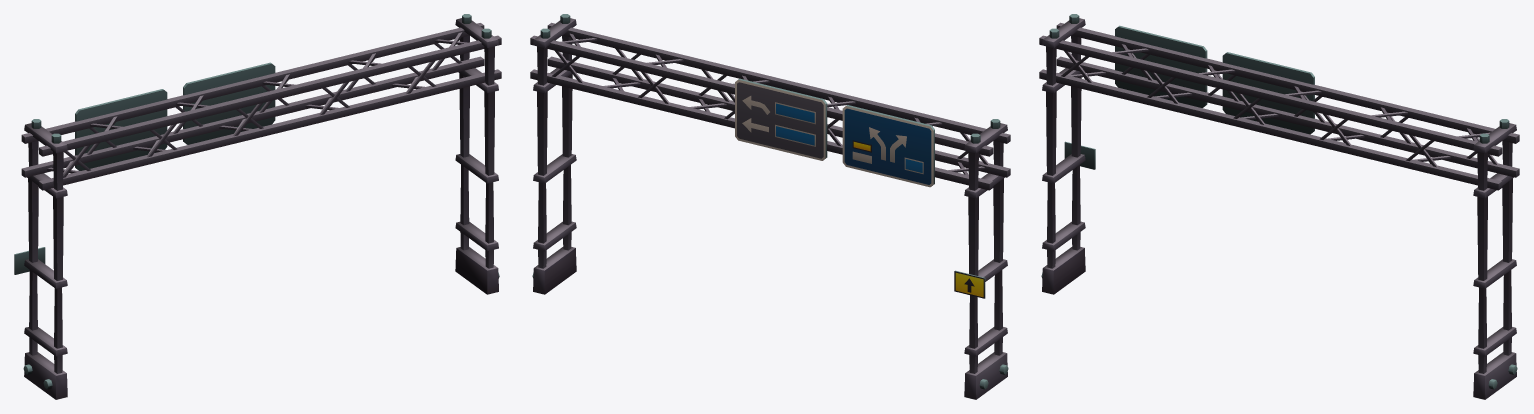
The model's file is Highway_Streetsign_1A.fbx.
The picture shows the model from 3 angles, left to right: view 1: azimuth 30°, elevation 25°; view 2: azimuth 150°, elevation 25°; view 3: azimuth 330°, elevation 25°; orthographic projection.
Parts seen in each view (by area): view 1: Highway_Streetsign_1A, Addon_Sign_1B, Addon_Sign_1A; view 2: Highway_Streetsign_1A, Addon_Sign_1B, Addon_Sign_1A, Addon_Sign_1C; view 3: Highway_Streetsign_1A, Addon_Sign_1A, Addon_Sign_1B.
Boxes of the visible parts, <box> form: Highway_Streetsign_1A: <box>21,14,501,399</box>; Addon_Sign_1B: <box>75,89,167,170</box>; Addon_Sign_1A: <box>183,62,275,144</box>; Highway_Streetsign_1A: <box>530,14,1010,399</box>; Addon_Sign_1B: <box>842,105,934,187</box>; Addon_Sign_1A: <box>735,78,827,160</box>; Addon_Sign_1C: <box>954,270,985,298</box>; Highway_Streetsign_1A: <box>1039,14,1519,399</box>; Addon_Sign_1A: <box>1222,52,1314,134</box>; Addon_Sign_1B: <box>1115,25,1207,107</box>.
Size of the model in its own units: 2135 by 1146 by 261.
